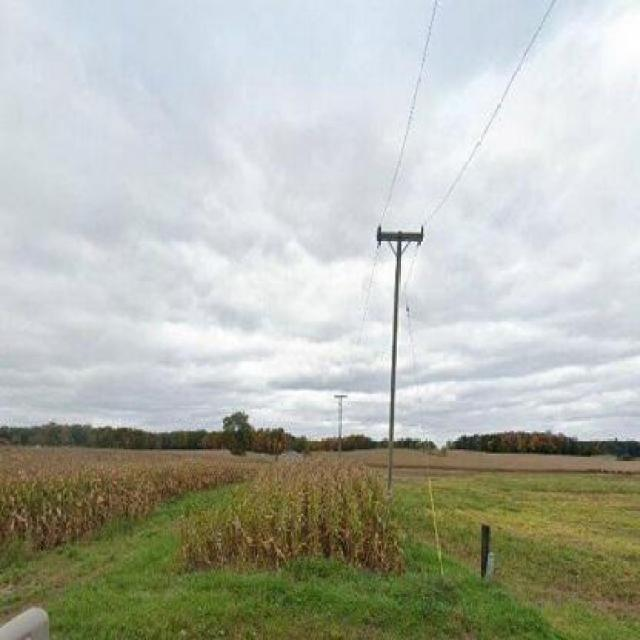pole: (366, 218, 431, 480)
